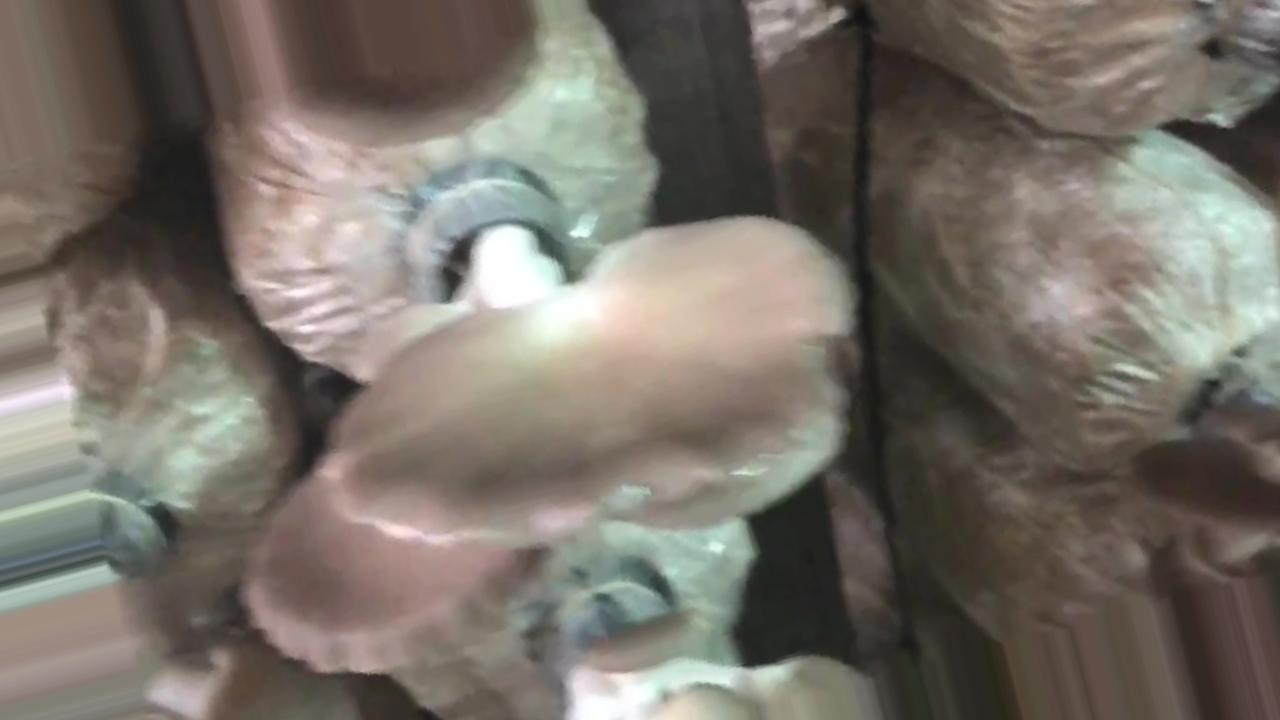nam: (324, 167, 855, 546), (235, 471, 549, 675), (284, 2, 541, 149), (1156, 393, 1280, 558)
